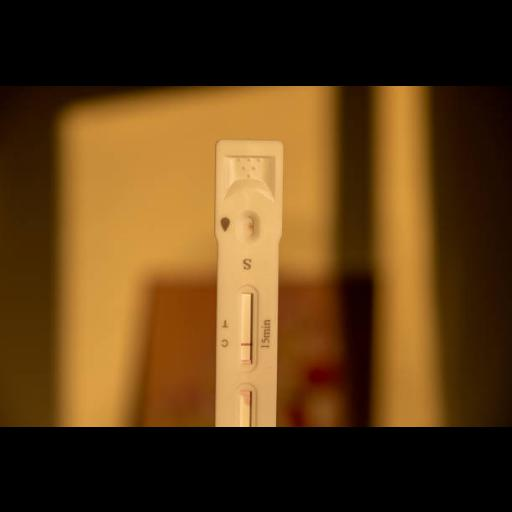Neg: (216, 139, 282, 425)
